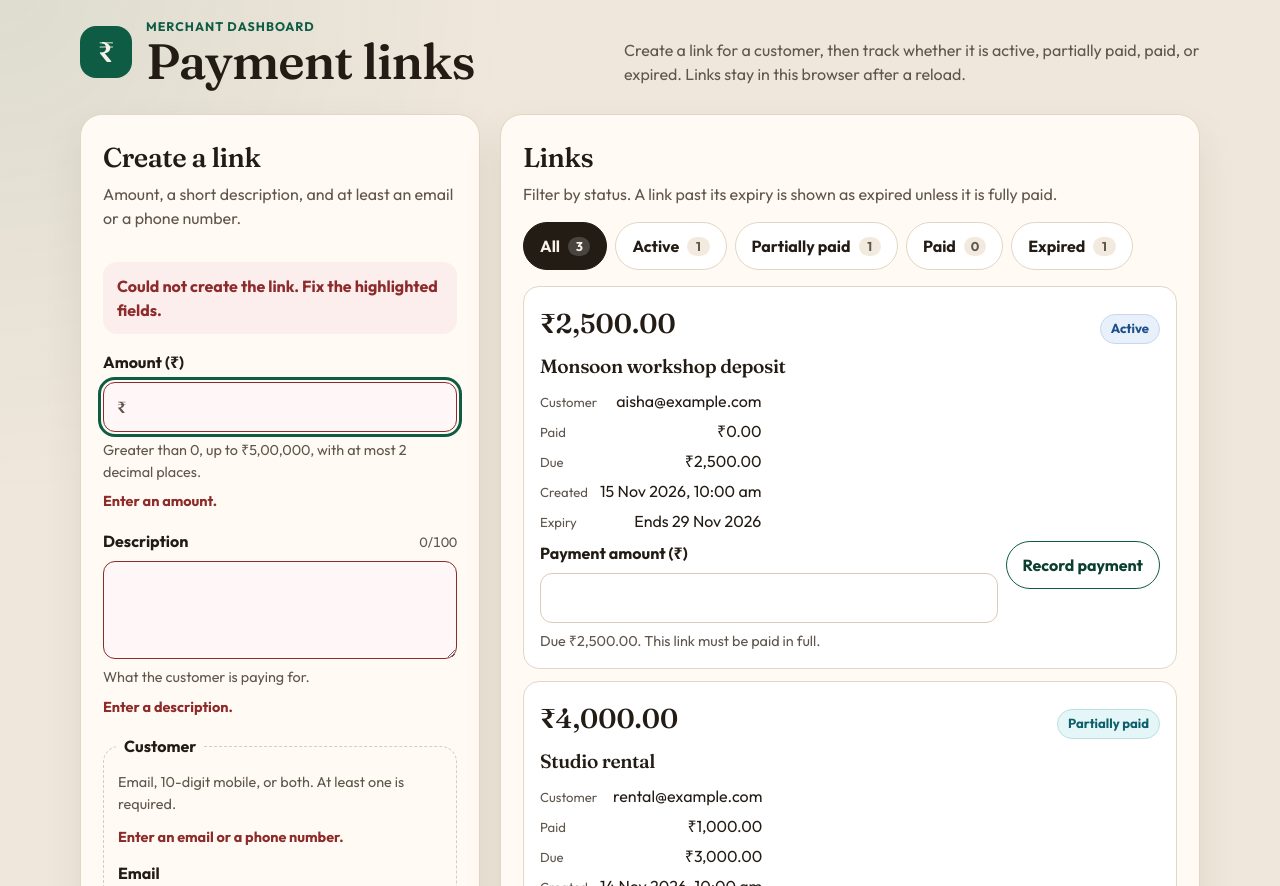
Test case: payment links dashboard › shows validation errors, then lists a new link and hides it from Paid
Earlier steps of the test are not shown.
Expected: the message shows "Could not create the link", 117,276 -> 438,320
Expected: the text "Enter an amount." is shown, 103,492 -> 217,510
Type "1500" into the field labelled "Amount (₹)" at point(280, 407), box 103,382 -> 457,432
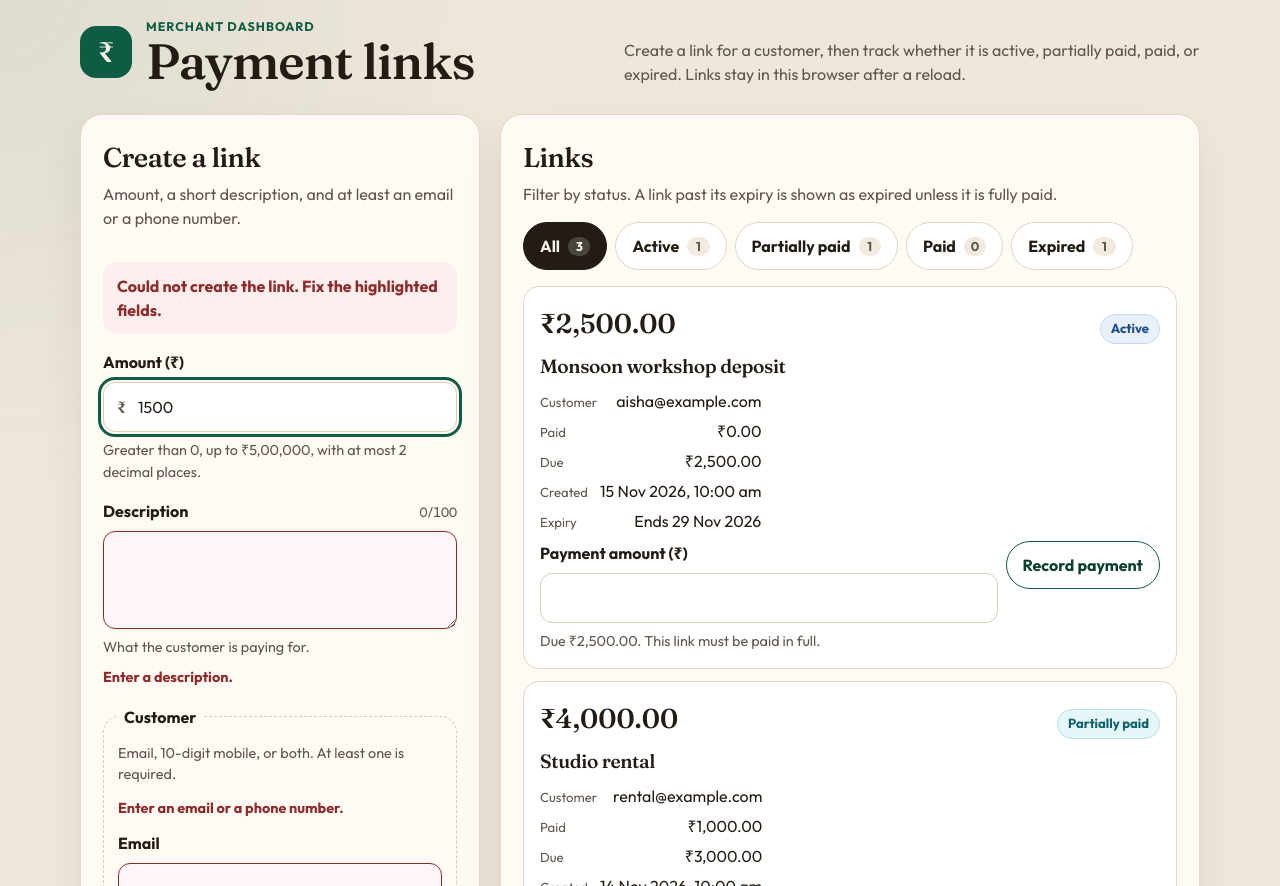
Type "E2E festival ticket" into the text box labelled "Description" at point(280, 580), box 103,531 -> 457,629
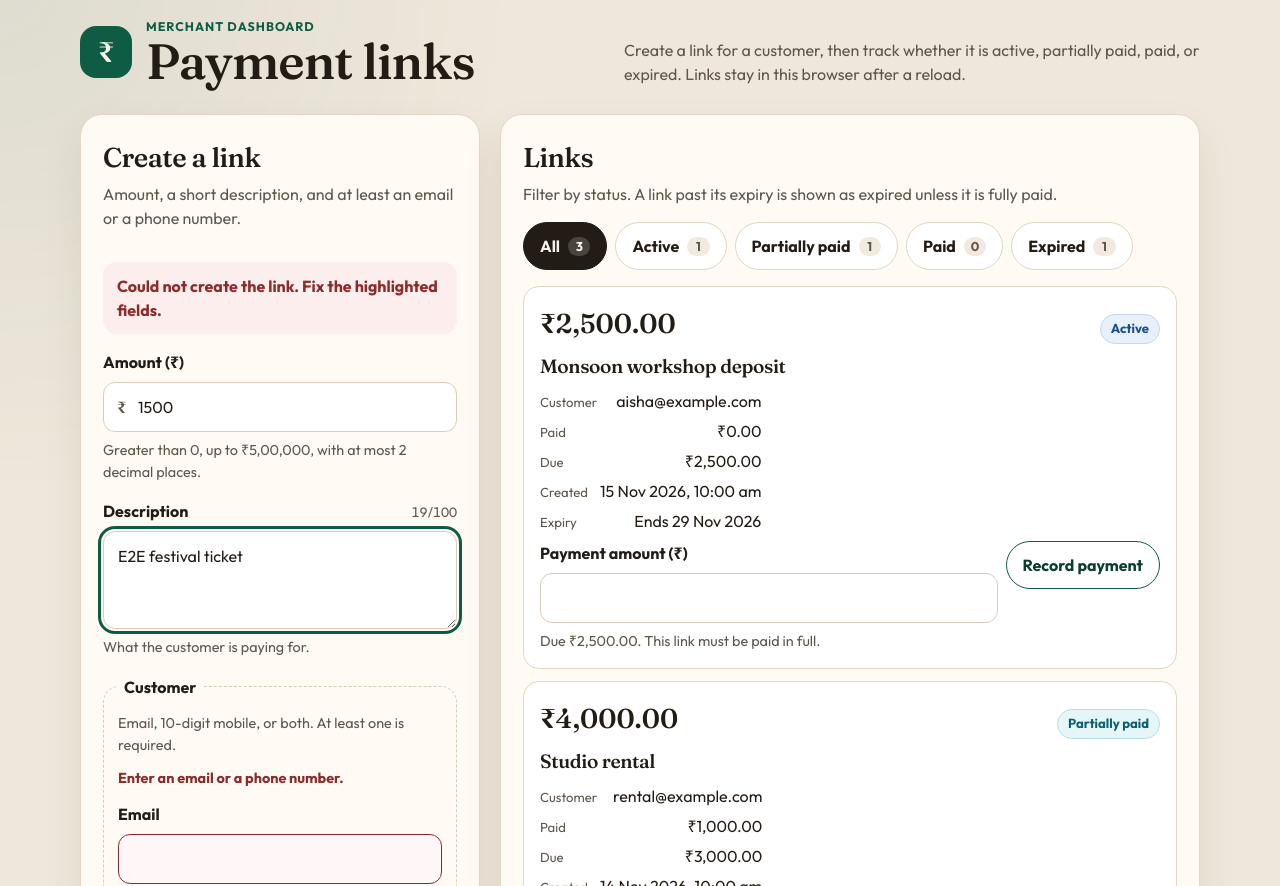
Type "buyer@example.com" into the field labelled "Email" at point(280, 859), box 118,834 -> 442,884
(page scrolled)
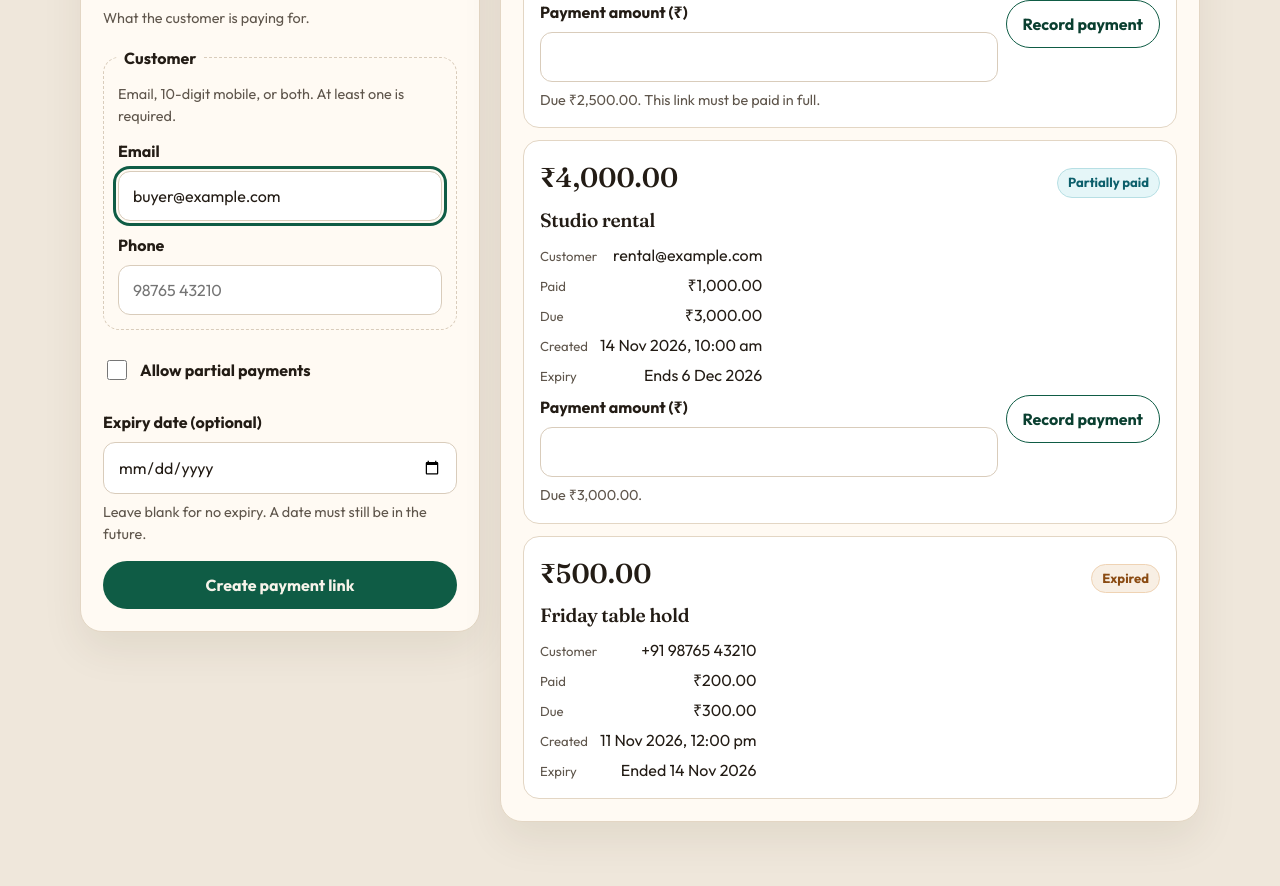
Click the button "Create payment link" at point(280, 585), box 103,561 -> 457,609
(page scrolled)
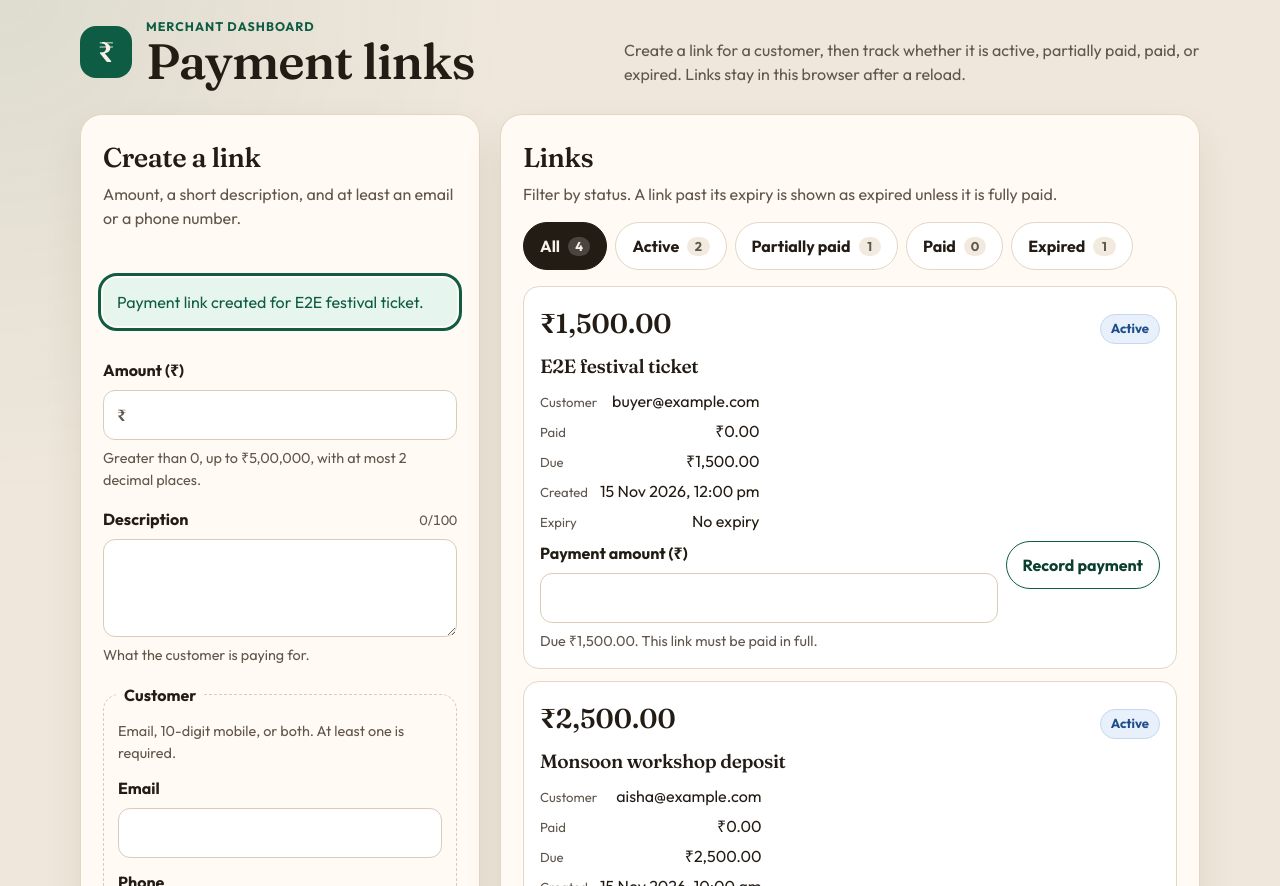
Expected: the message reads "Payment link created for E2E festival ticket.", 117,292 -> 424,312
Expected: the heading "E2E festival ticket" is shown, 540,354 -> 698,378
Click the button "Paid 0" at point(955, 246), box 906,222 -> 1003,270
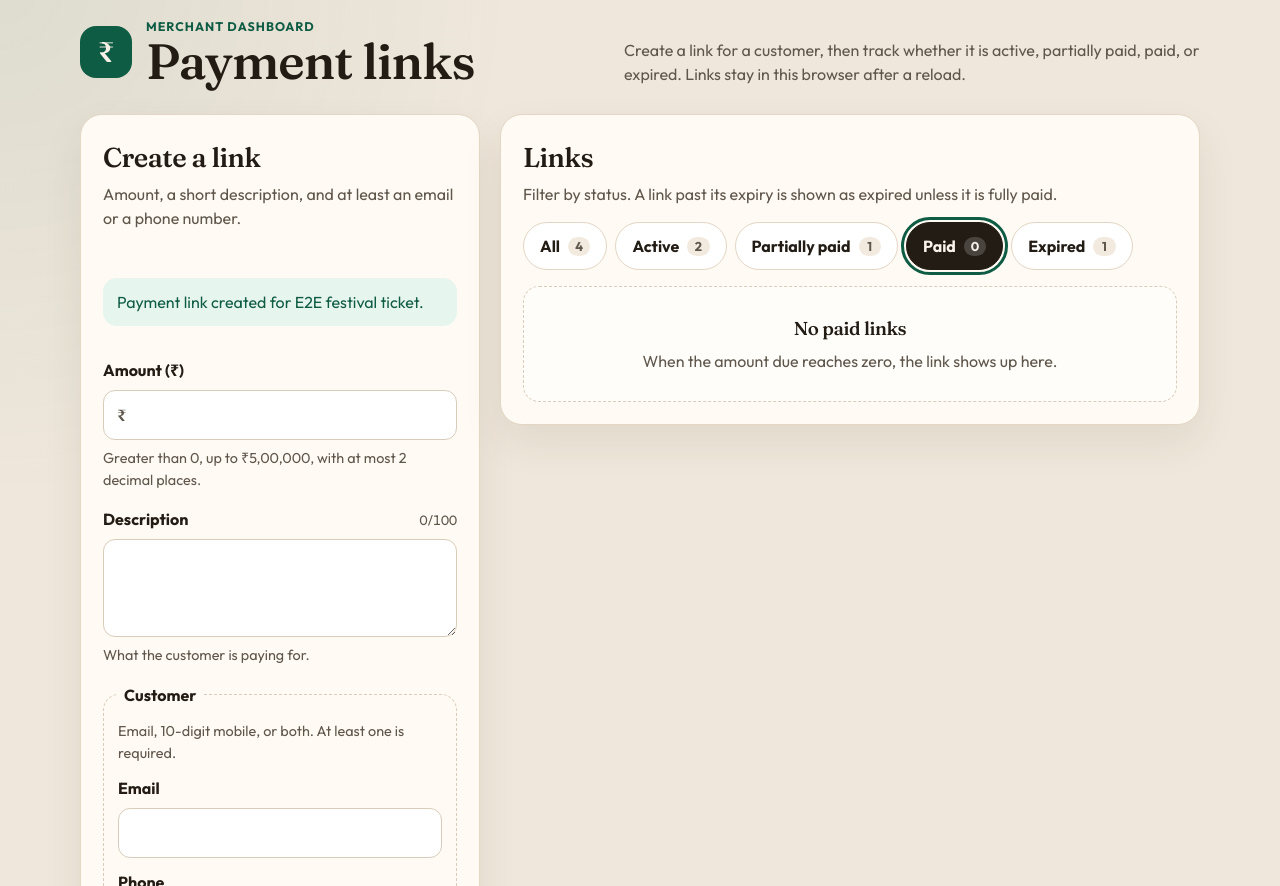
Expected: the heading "No paid links" is shown, 794,317 -> 906,340
Click the button "Partially paid 1" at point(816, 246), box 735,222 -> 898,270
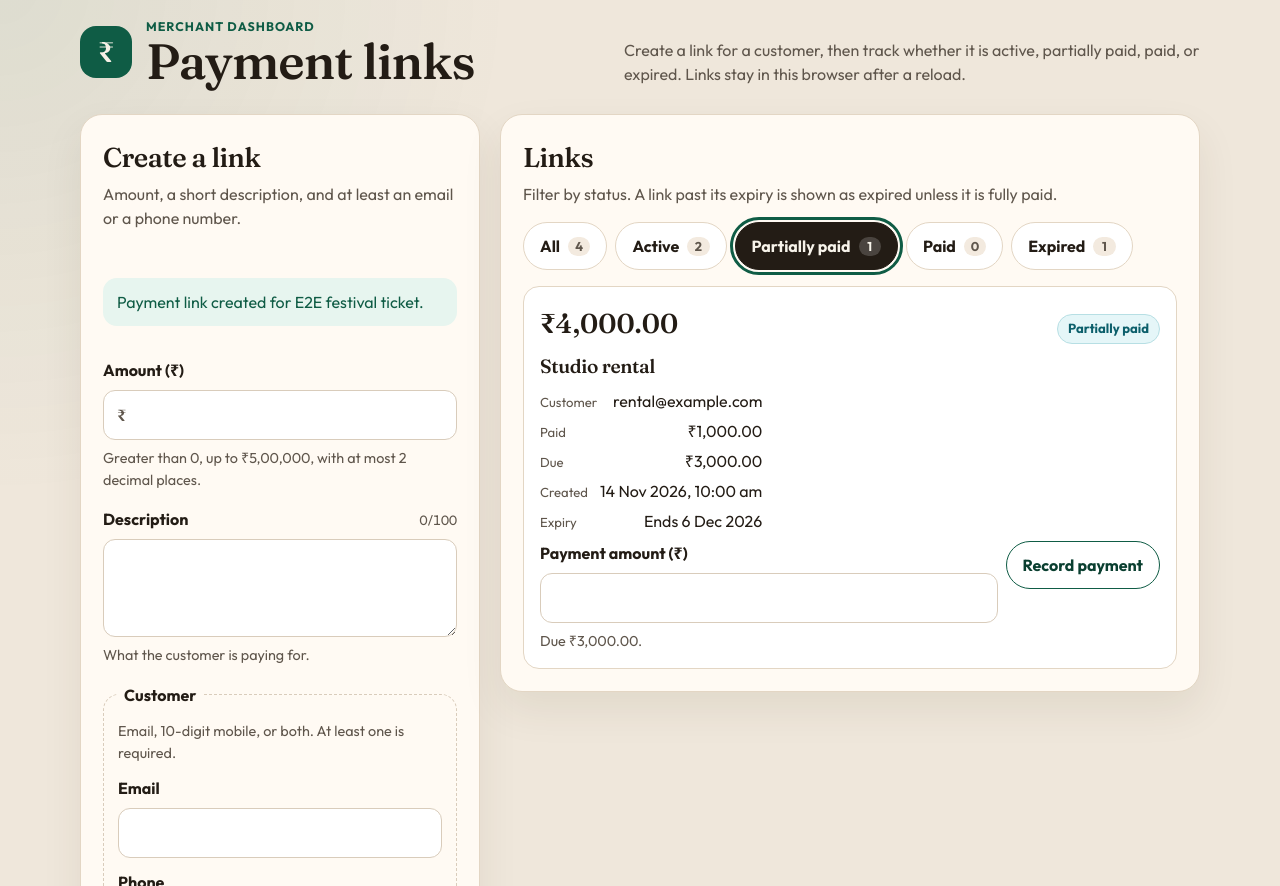
Expected: the heading "Studio rental" is shown, 540,354 -> 655,378
